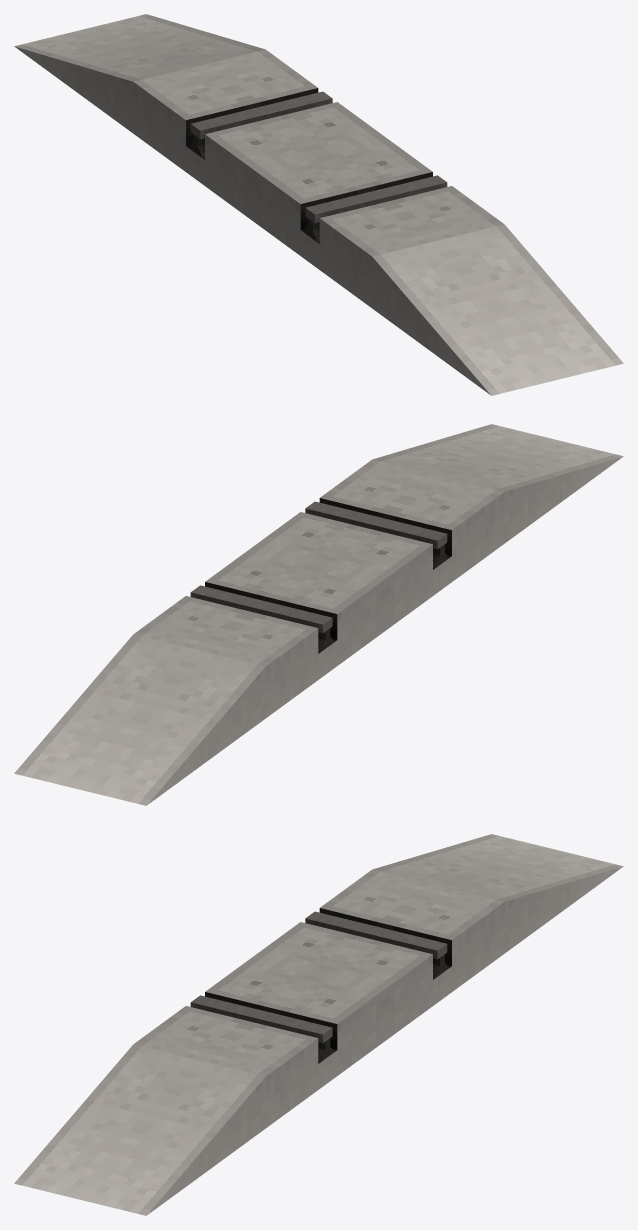
Rendered from texel_gradecrssng.obj.
3 renders of one model, top to bottom at view 1: azimuth 30°, elevation 25°; view 2: azimuth 150°, elevation 25°; view 3: azimuth 330°, elevation 25°, orthographic.
Parts seen in each view (by area): view 1: TRACK_BASE_Plane, RAIL_LEFT_Cube_Cube.002, RAIL_RIGHT_Cube_Cube.003; view 2: TRACK_BASE_Plane, RAIL_RIGHT_Cube_Cube.003, RAIL_LEFT_Cube_Cube.002; view 3: TRACK_BASE_Plane, RAIL_LEFT_Cube_Cube.002, RAIL_RIGHT_Cube_Cube.003.
Part boxes in pixels (bbox=[...]): TRACK_BASE_Plane: bbox=[14, 14, 623, 395]; RAIL_LEFT_Cube_Cube.002: bbox=[303, 175, 447, 242]; RAIL_RIGHT_Cube_Cube.003: bbox=[188, 91, 332, 158]; TRACK_BASE_Plane: bbox=[14, 424, 623, 805]; RAIL_RIGHT_Cube_Cube.003: bbox=[190, 585, 334, 652]; RAIL_LEFT_Cube_Cube.002: bbox=[305, 501, 449, 568]; TRACK_BASE_Plane: bbox=[14, 834, 623, 1215]; RAIL_LEFT_Cube_Cube.002: bbox=[190, 995, 334, 1062]; RAIL_RIGHT_Cube_Cube.003: bbox=[305, 911, 449, 978].
Size of the model in its own units: 1 by 0.375 by 6.25.
Materials: 1 (1 with a texture image).
